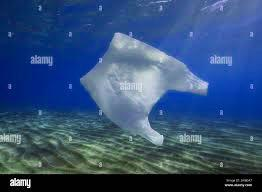Trash: (79, 22, 213, 154)
